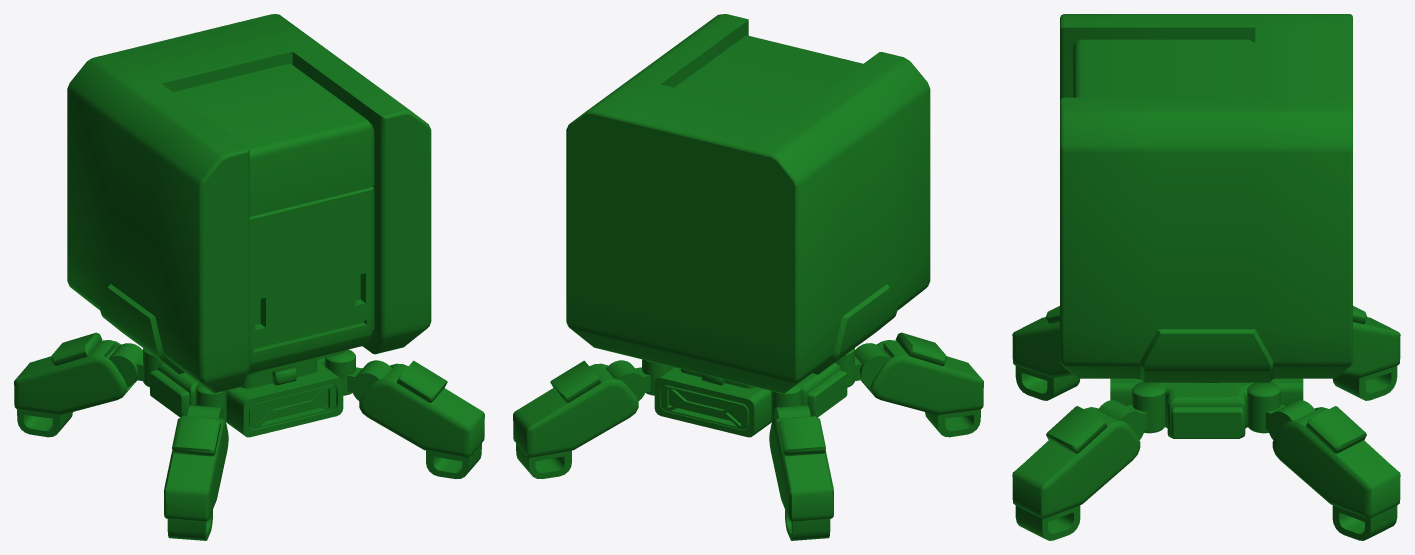
The model's file is Bottington.fbx.
3 views of the same model, side by side, from view 1: azimuth 30°, elevation 25°; view 2: azimuth 150°, elevation 25°; view 3: azimuth 270°, elevation 25° (orthographic). The views are drawn at different scales.
Visible parts, largest first — view 1: Bottington; view 2: Bottington; view 3: Bottington.
Part boxes in pixels (left/top/right/bottom): Bottington: left=14, top=14, right=484, bottom=540; Bottington: left=513, top=14, right=983, bottom=540; Bottington: left=1012, top=14, right=1400, bottom=540.
Size of the model in its own units: 275 by 300 by 265.
